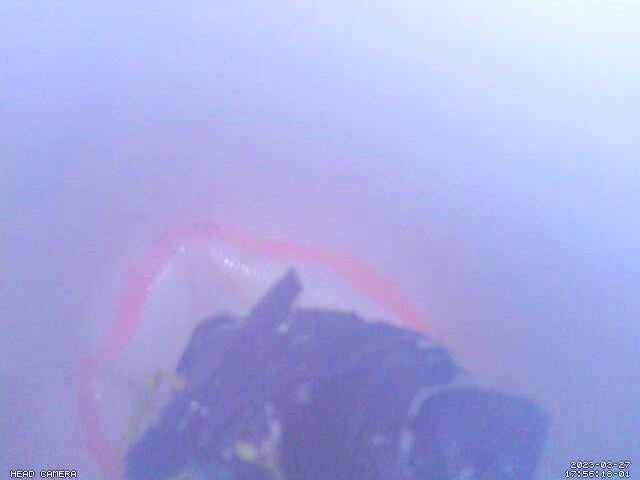head: (75, 219, 434, 480)
